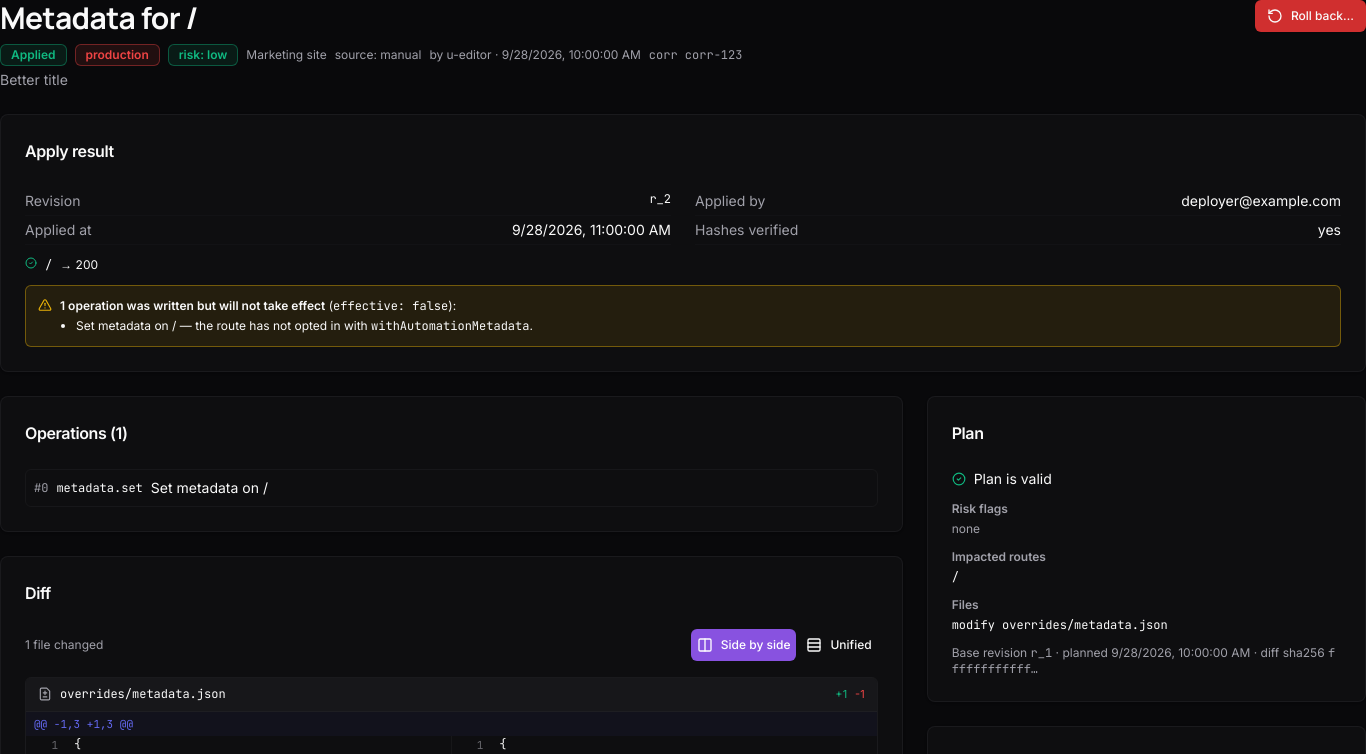
Test case: applied result shows revision, effective:false warning, and a gated rollback with reason + typed confirmation
Later steps or results of the test are not shown.
Expected: the text with test id "apply-revision" reads "r_2", [649,191,671,207]
Expected: the message with test id "ineffective-warning" shows "effective: false", [333,298,448,314]
Click the button with test id "rollback-btn" at [1310, 16], box [1255,0,1365,32]
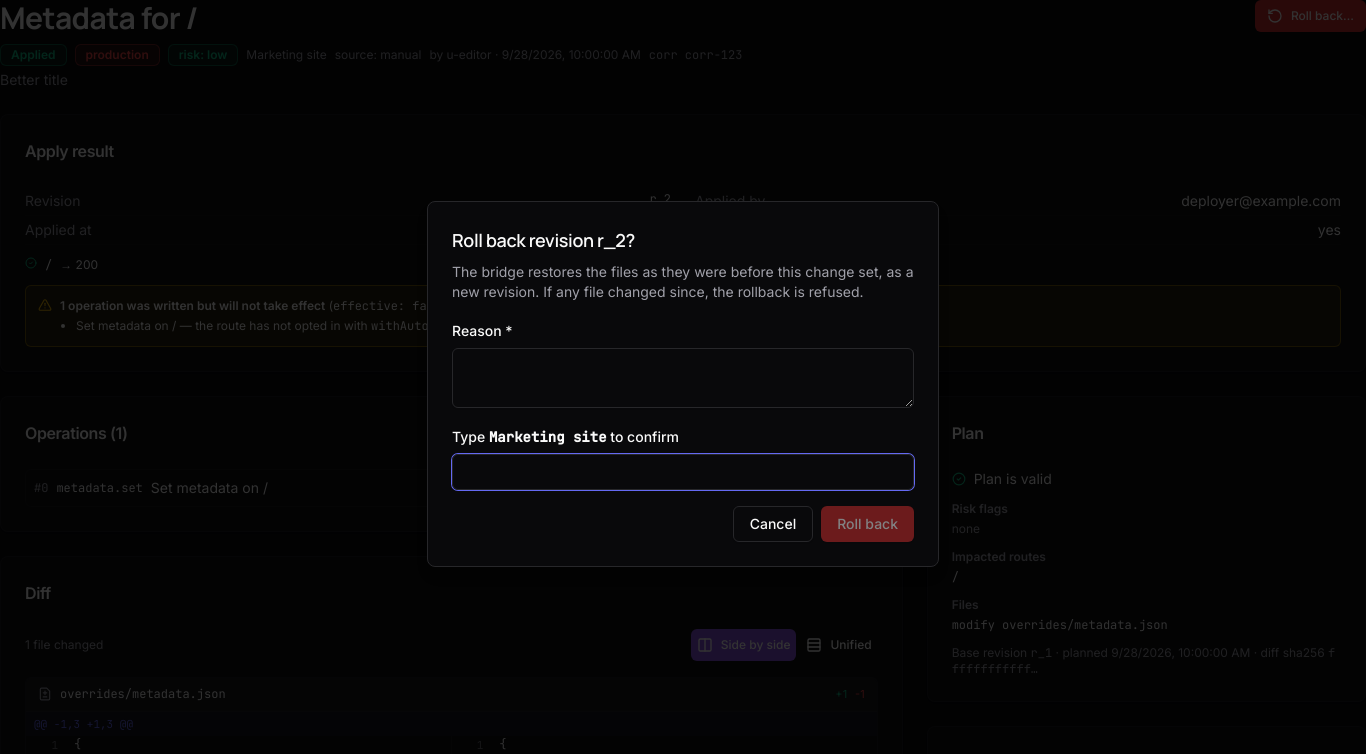
Type "Marketing site" into the field with test id "rollback-dialog-input" at [683, 472], box [452,454,914,490]
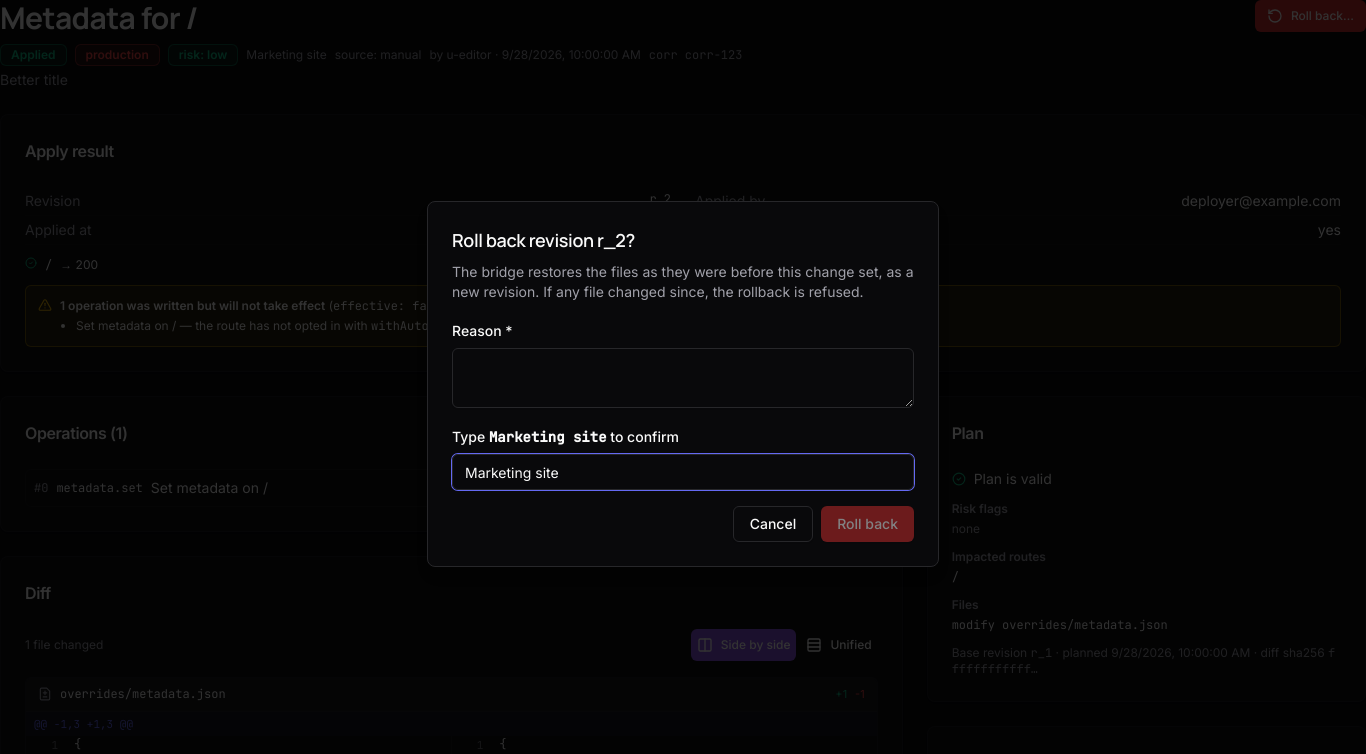
Result: the button with test id "rollback-dialog-confirm" is disabled at [821,506,914,542]
Type "Wrong title" into the text box with test id "rollback-dialog-reason" at [683, 378], box [452,348,914,408]
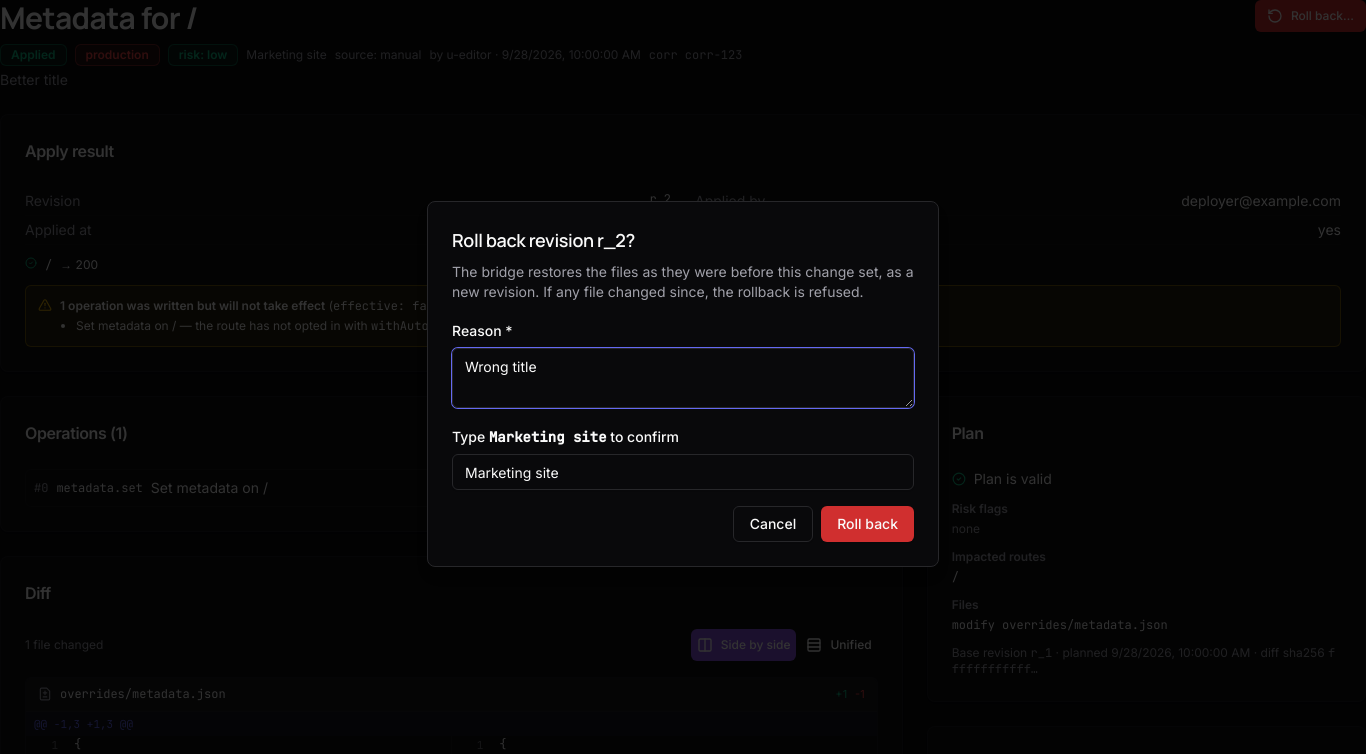
Result: the button with test id "rollback-dialog-confirm" is enabled at [821,506,914,542]
